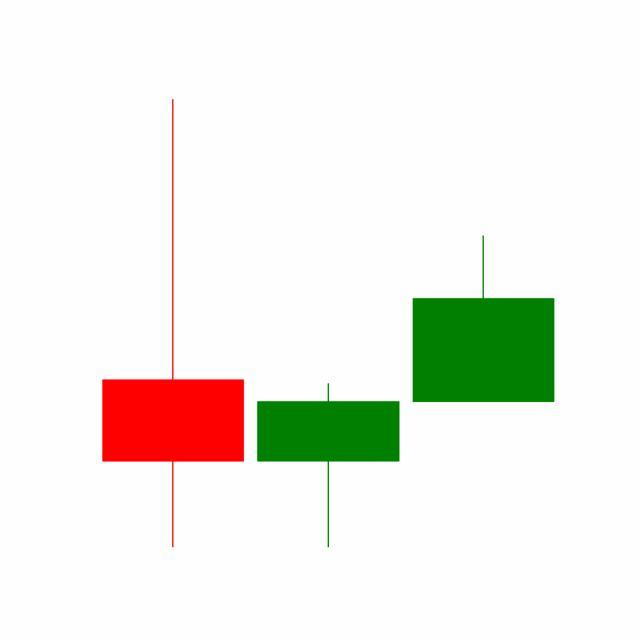Hammer: (250, 382, 407, 551)
